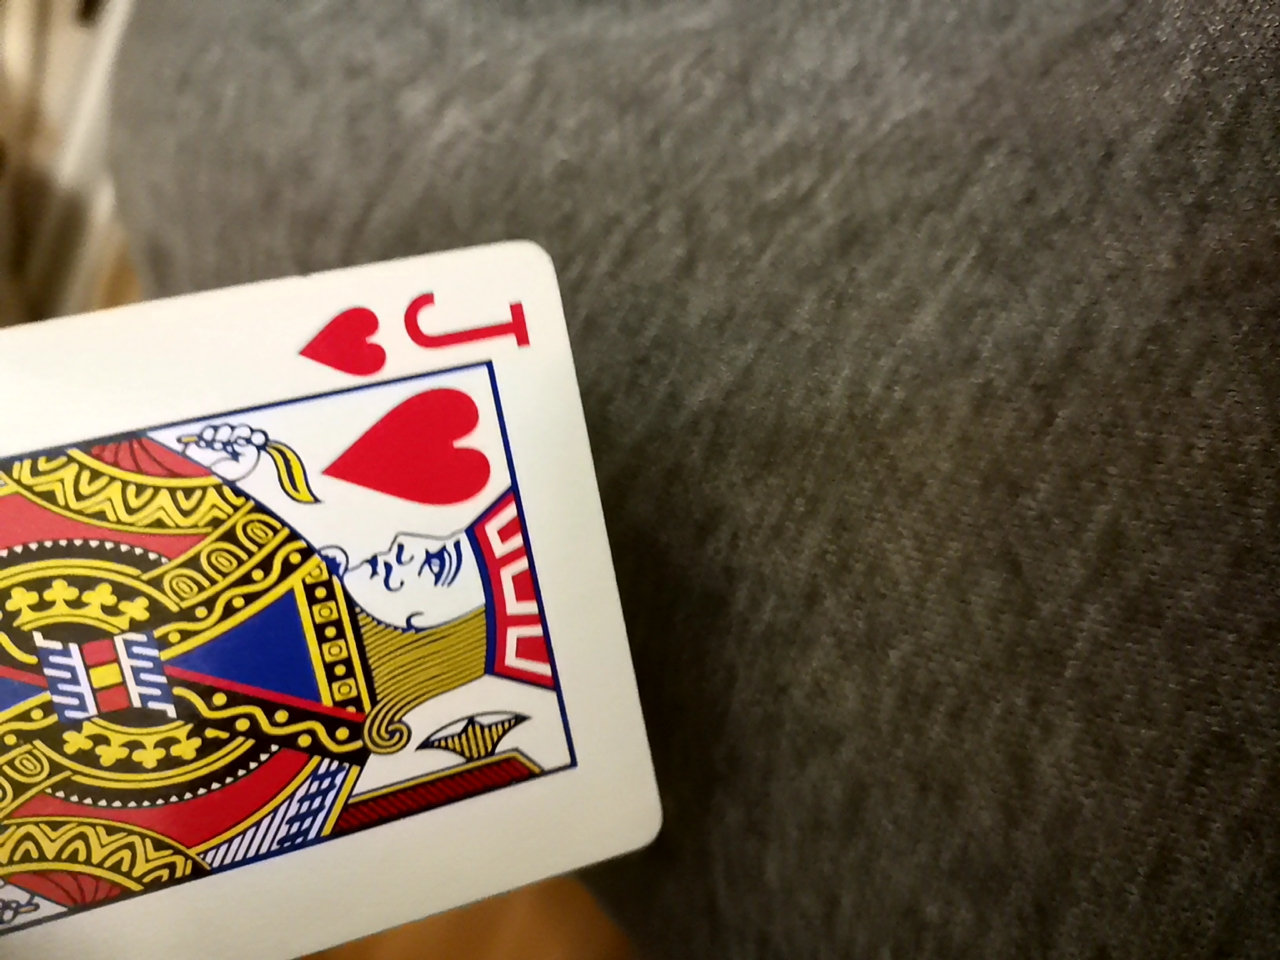hx j: (4, 242, 671, 950)
